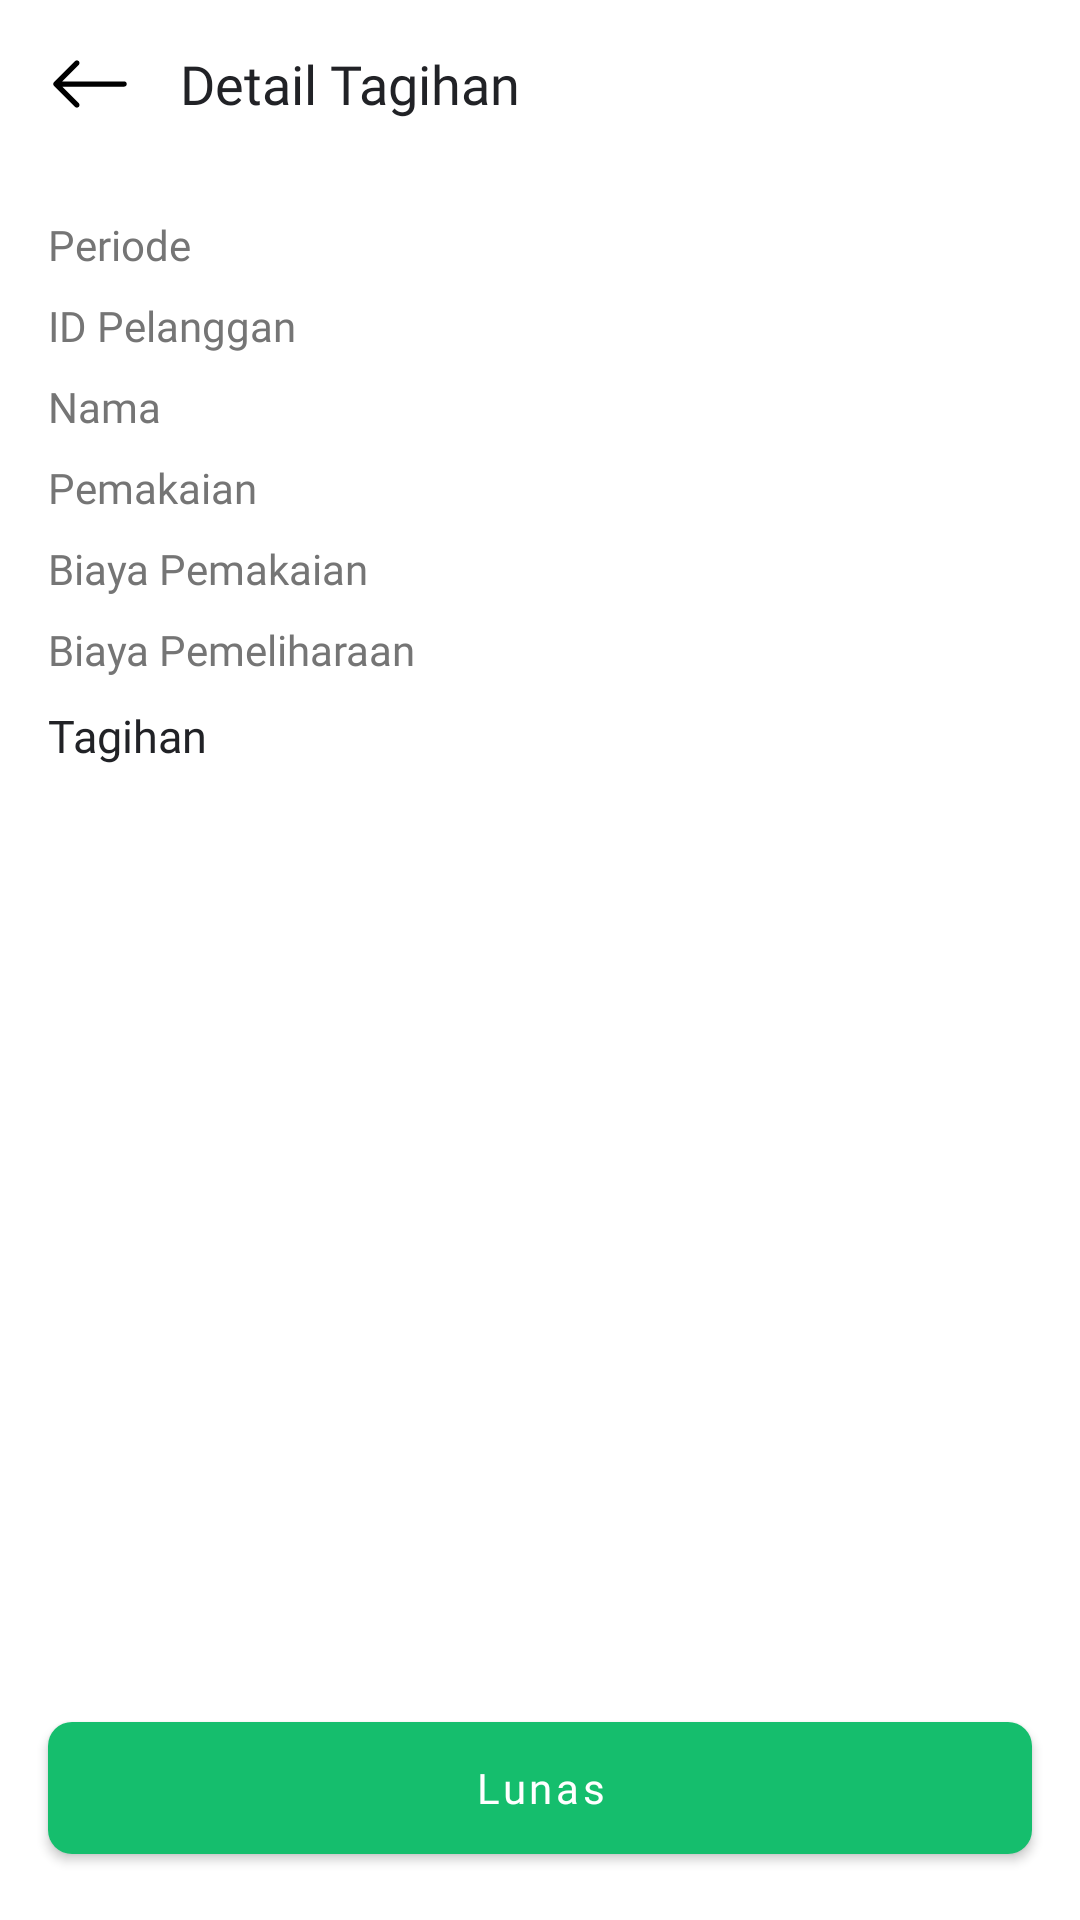

Where to tap for icons on this 1080x1920 app screen, as point (x, y):
arrow left: point (90, 84)
